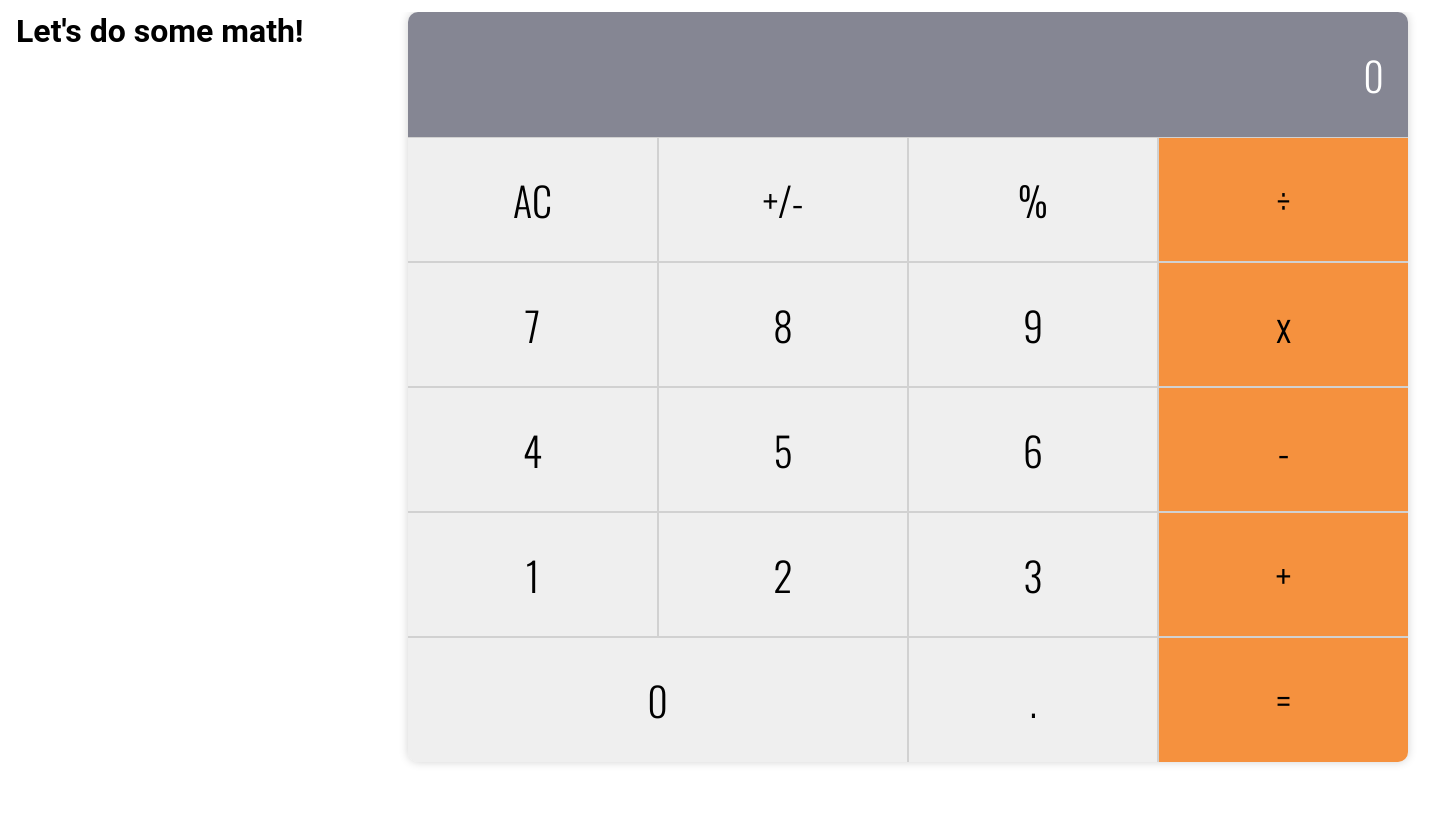
Calculator user interaction › when user hits a "4" then hits "5" it renders "45"
Click the button "4" at (533,450), box [408,387,658,512]
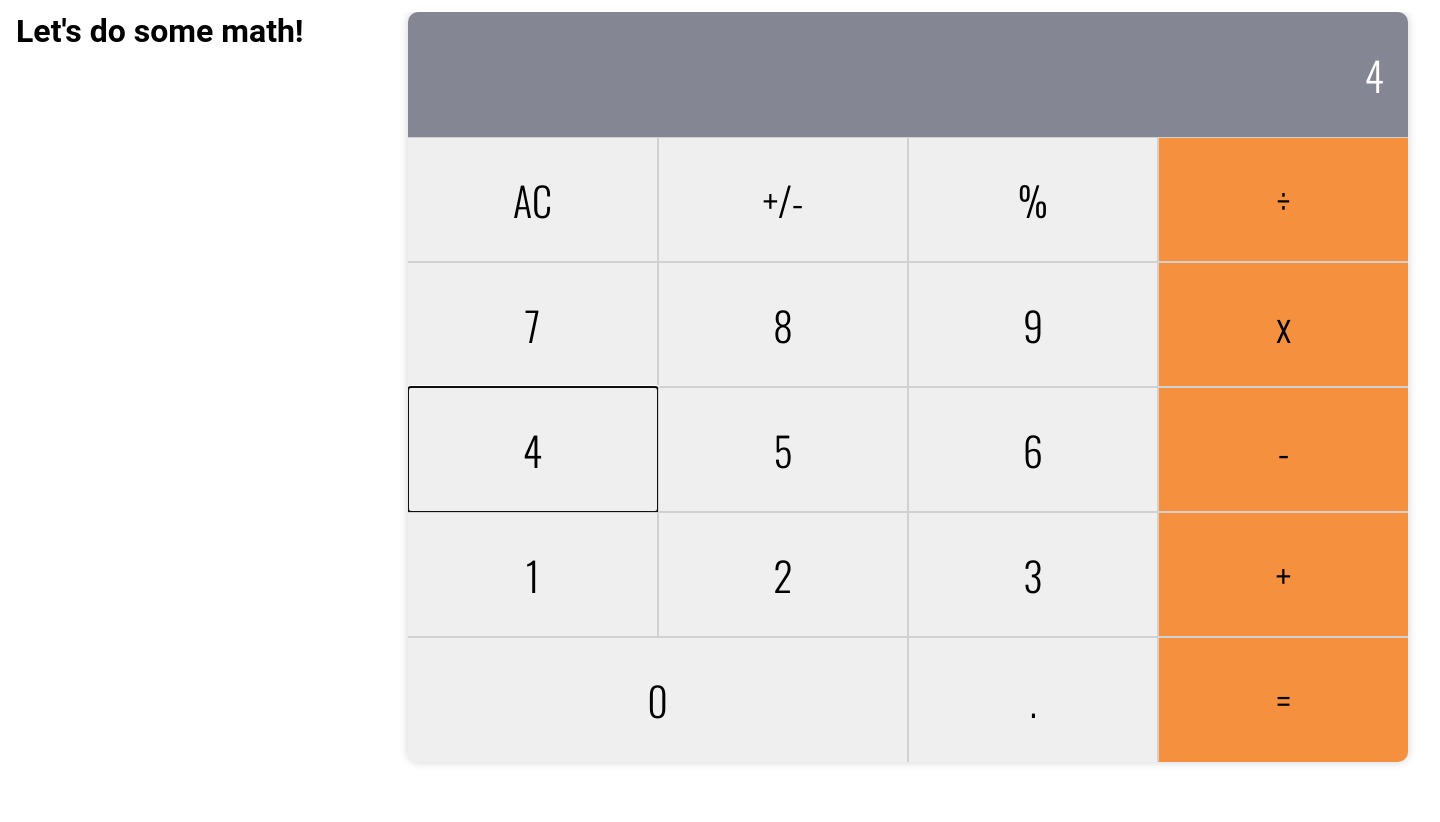
Click the button "5" at (783,450), box [658,387,908,512]
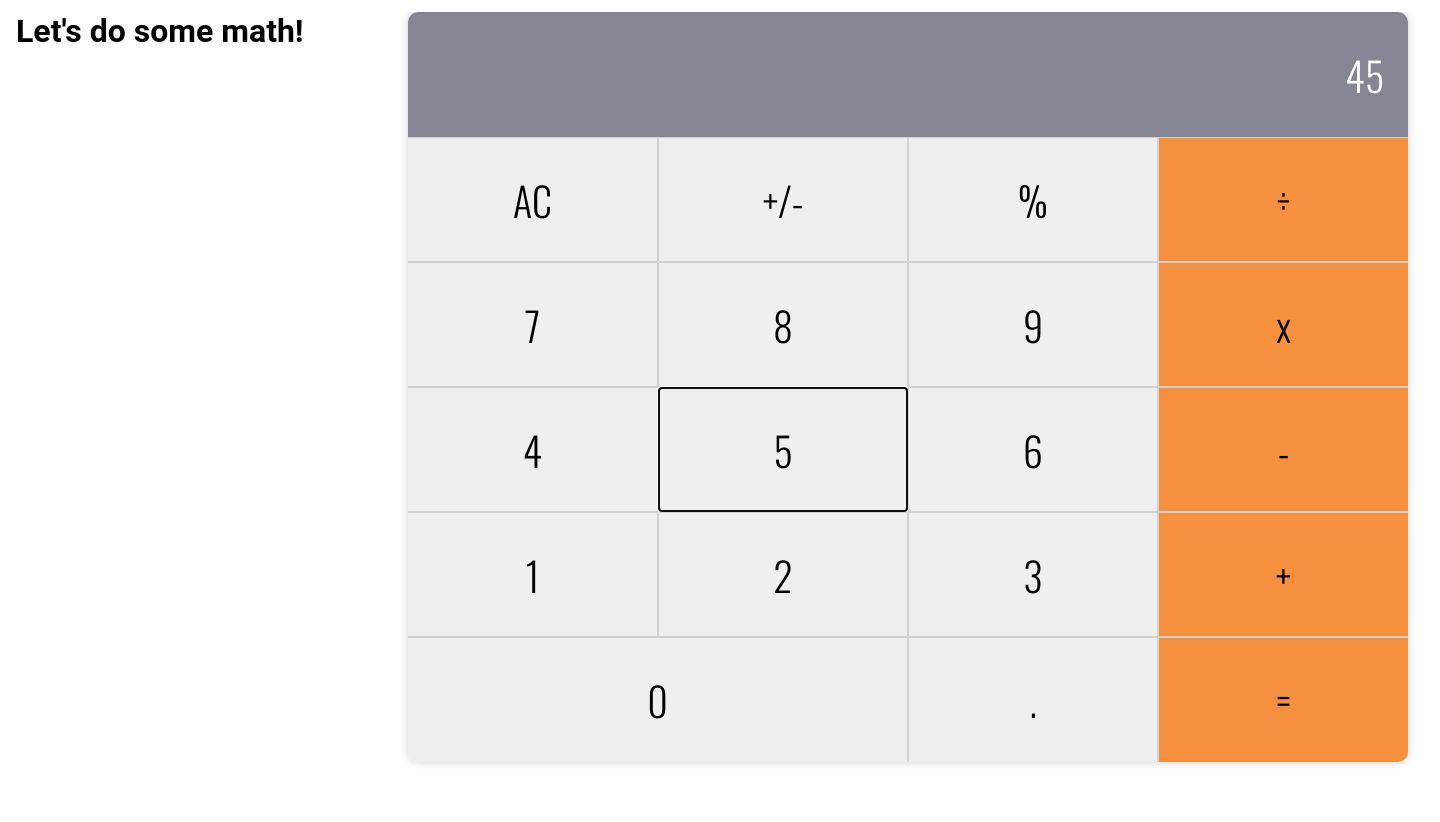
Expected: the text with test id "display" reads "45", [1345,44,1384,104]
